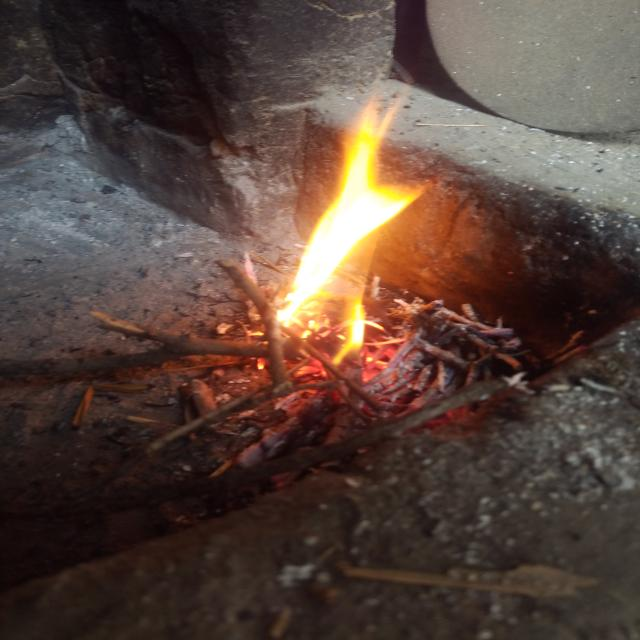firerotation: (249, 80, 433, 367)
